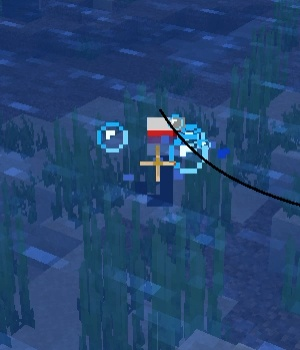up: (137, 108, 188, 165)
